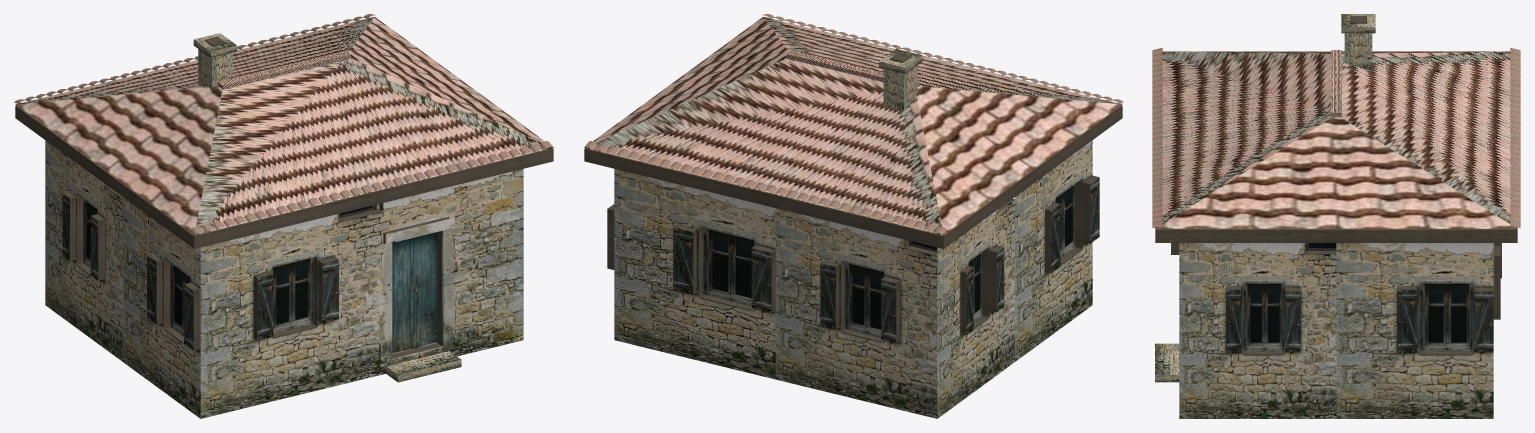
File: tas.glb
3 views of the same model, side by side, from view 1: azimuth 30°, elevation 25°; view 2: azimuth 150°, elevation 25°; view 3: azimuth 270°, elevation 25° (orthographic).
Parts seen in each view (by area): view 1: tas; view 2: tas; view 3: tas.
Part boxes in pixels (x1,y1,x2,y2): tas: (14,14,553,418); tas: (584,14,1123,418); tas: (1152,14,1520,418).
Bounding box in the file's own units: 6.68 × 5.11 × 5.85.
Materials: 1 (1 with a texture image).
